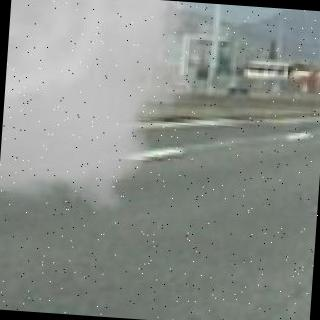smoke: (0, 0, 219, 234)
